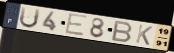4: (41, 10, 58, 33)
8: (89, 17, 107, 39)
B: (109, 20, 134, 44)
E: (64, 12, 89, 37)
K: (134, 24, 154, 47)
U: (18, 6, 42, 30)
